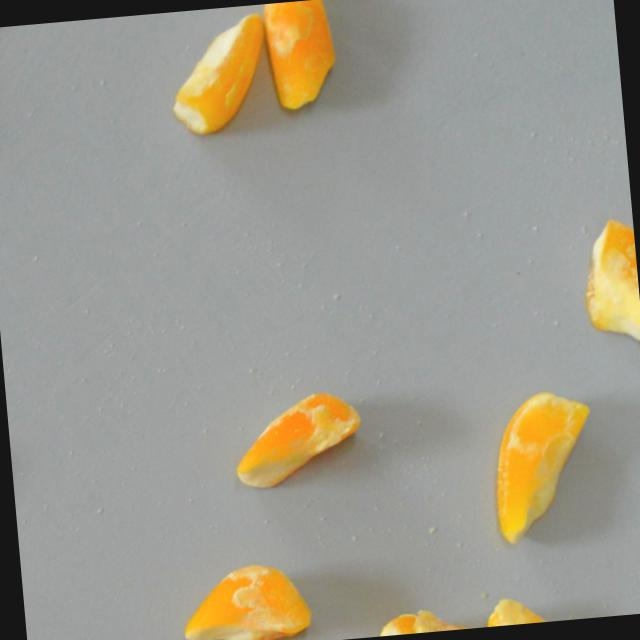dañado: (482, 382, 609, 553), (224, 385, 371, 494), (159, 6, 276, 141), (172, 553, 319, 640), (260, 0, 344, 118), (577, 215, 640, 351), (368, 594, 479, 637), (478, 587, 559, 627)
